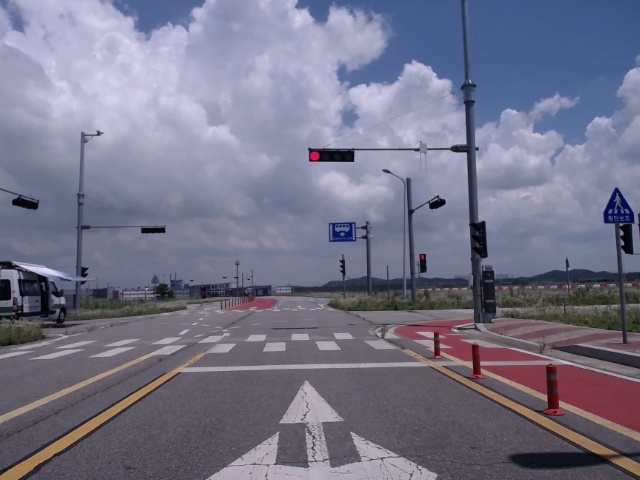red_4: (309, 150, 354, 162)
